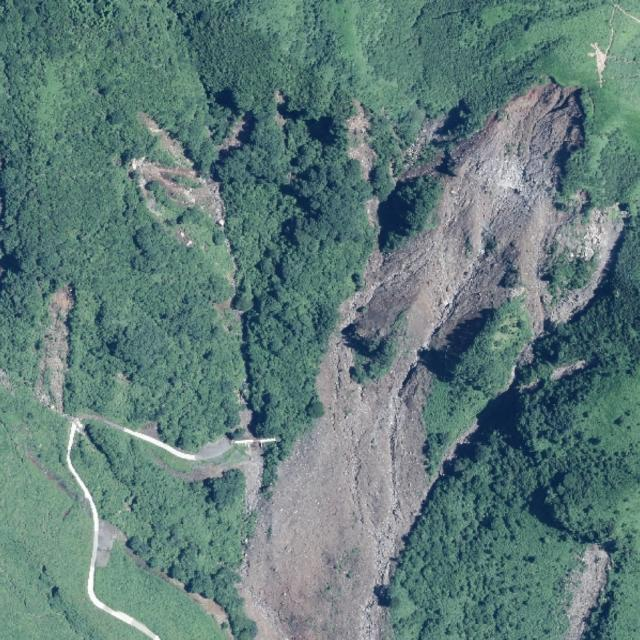landslide: (241, 81, 627, 640), (130, 114, 224, 249), (563, 546, 635, 640)
